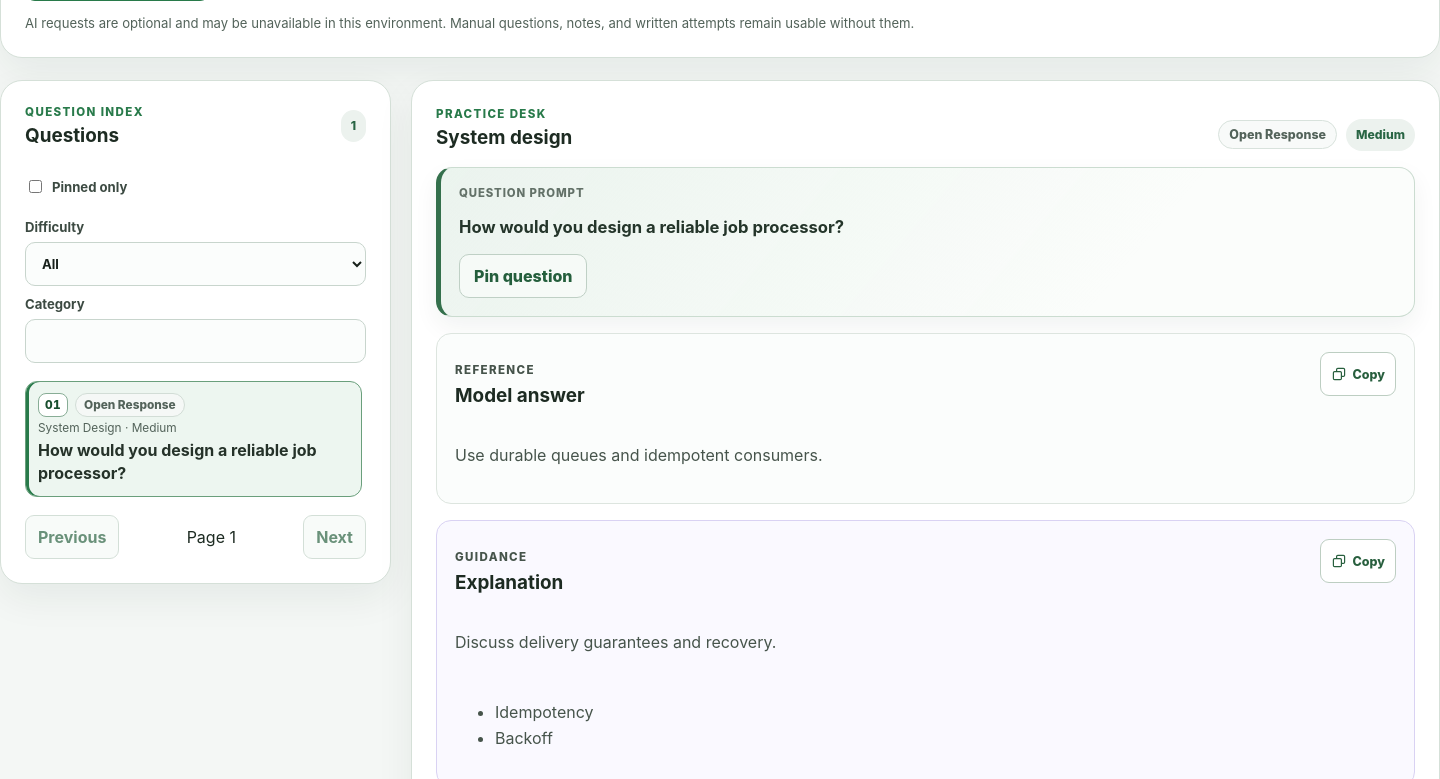
InterviewSessionWorkspace › copies only visible model-answer and explanation text with accessible outcomes
(page scrolled)
Click the button with aria-label "Copy model answer".
click(1358, 374)  # box left=1320, top=352, right=1396, bottom=396
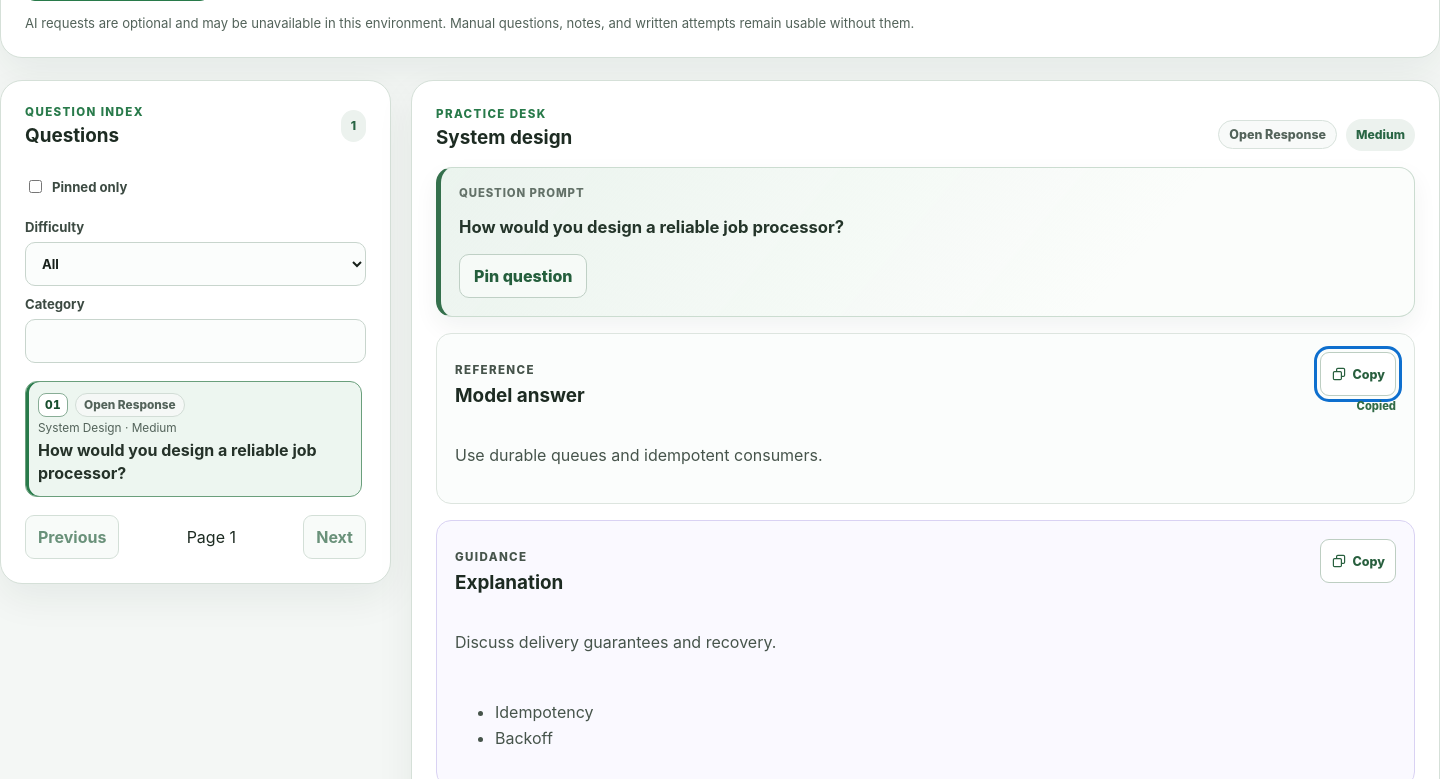
expect the message named "Model answer copy status" reads "Copied": met, box left=1357, top=400, right=1396, bottom=414
Click the button with aria-label "Copy explanation".
click(1358, 561)  # box left=1320, top=539, right=1396, bottom=583
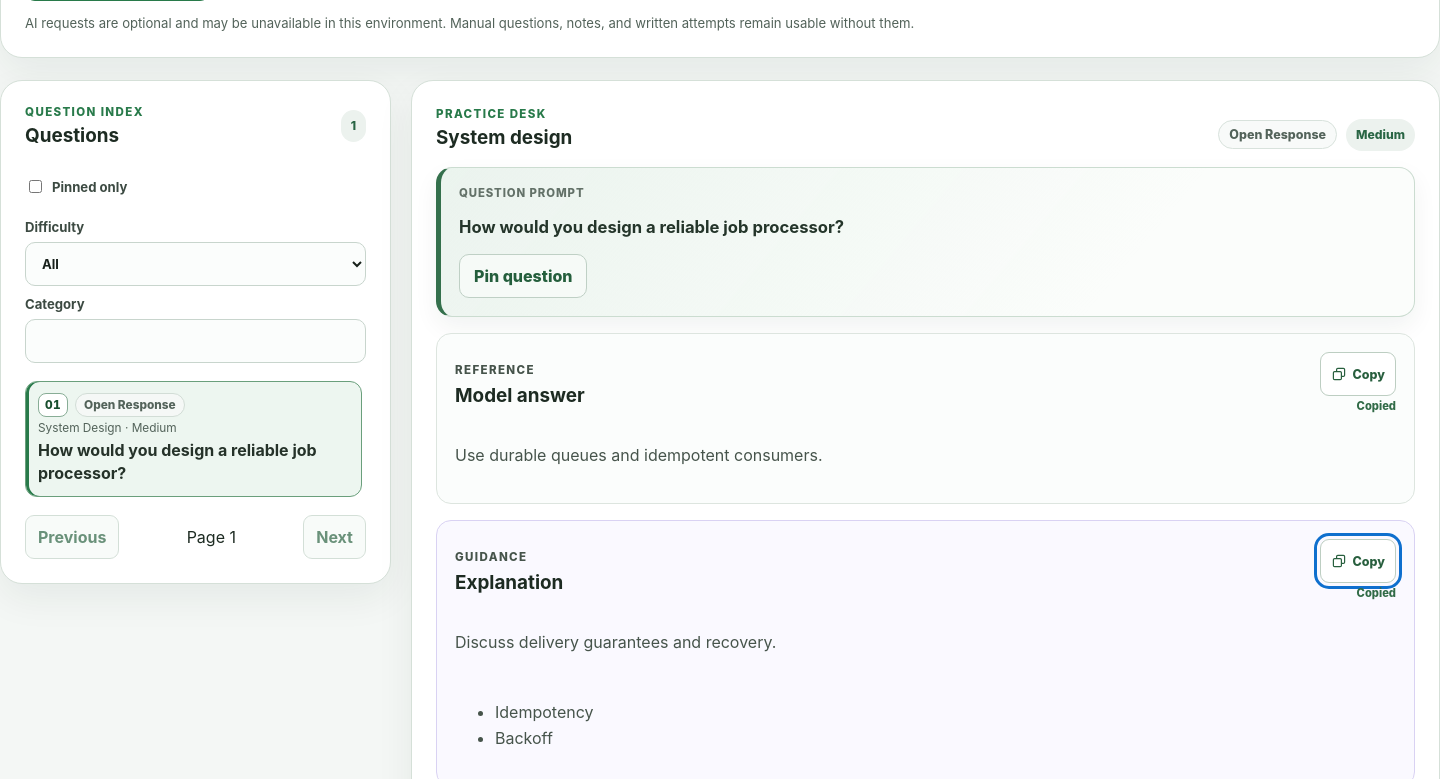
expect the message named "Explanation copy status" reads "Copied": met, box left=1357, top=586, right=1396, bottom=600
